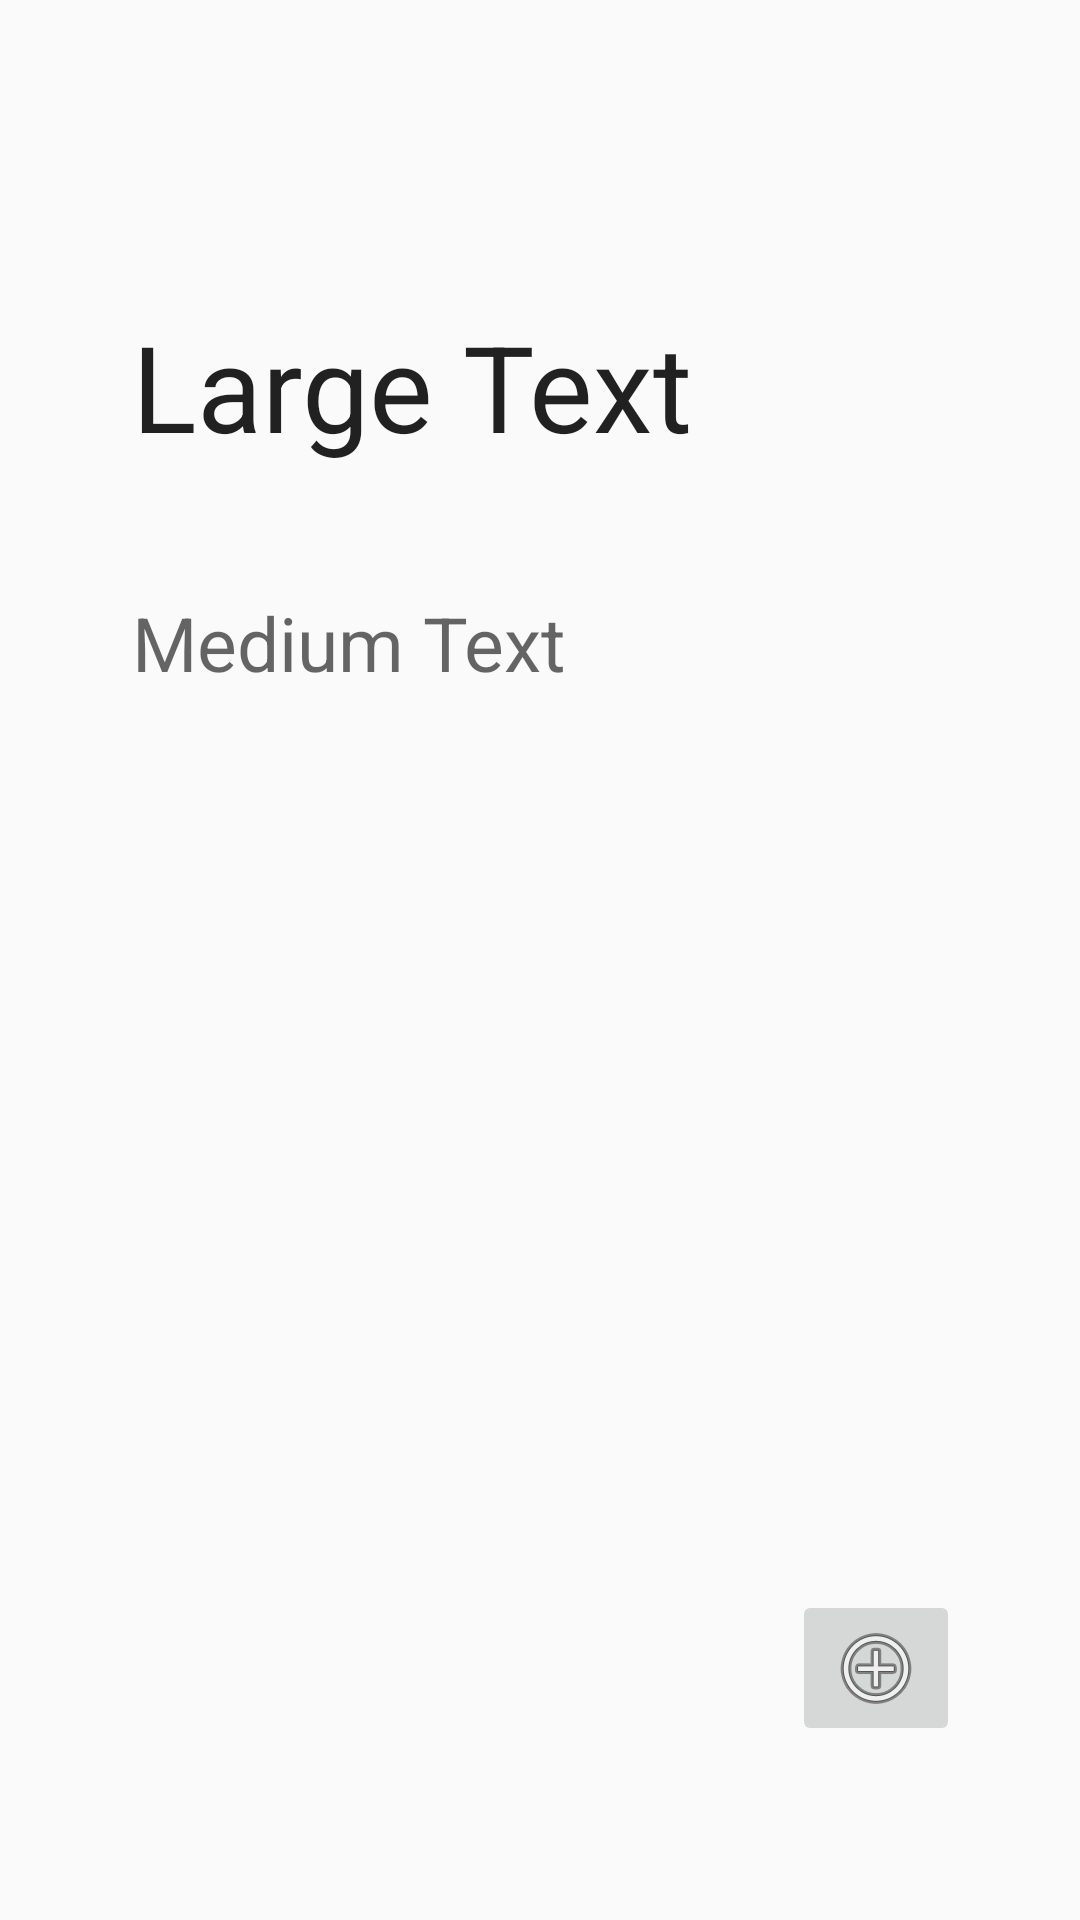

Icons on this 1080w x 1920h Android screen, each with its box as BBox(x1, y1, x2, y2):
add: BBox(804, 1608, 948, 1728)
